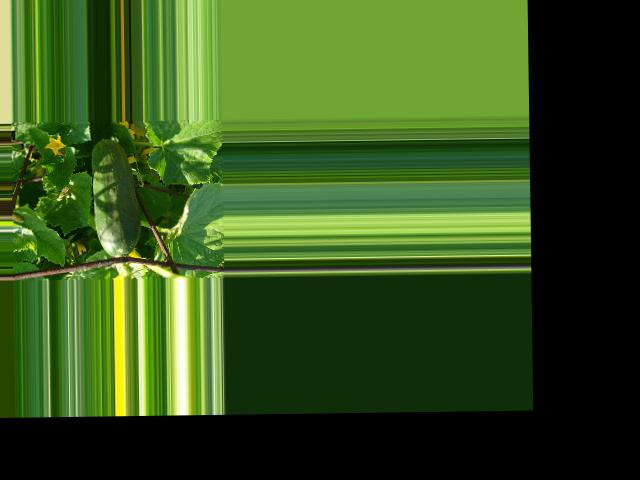cucumber: (91, 138, 143, 257)
